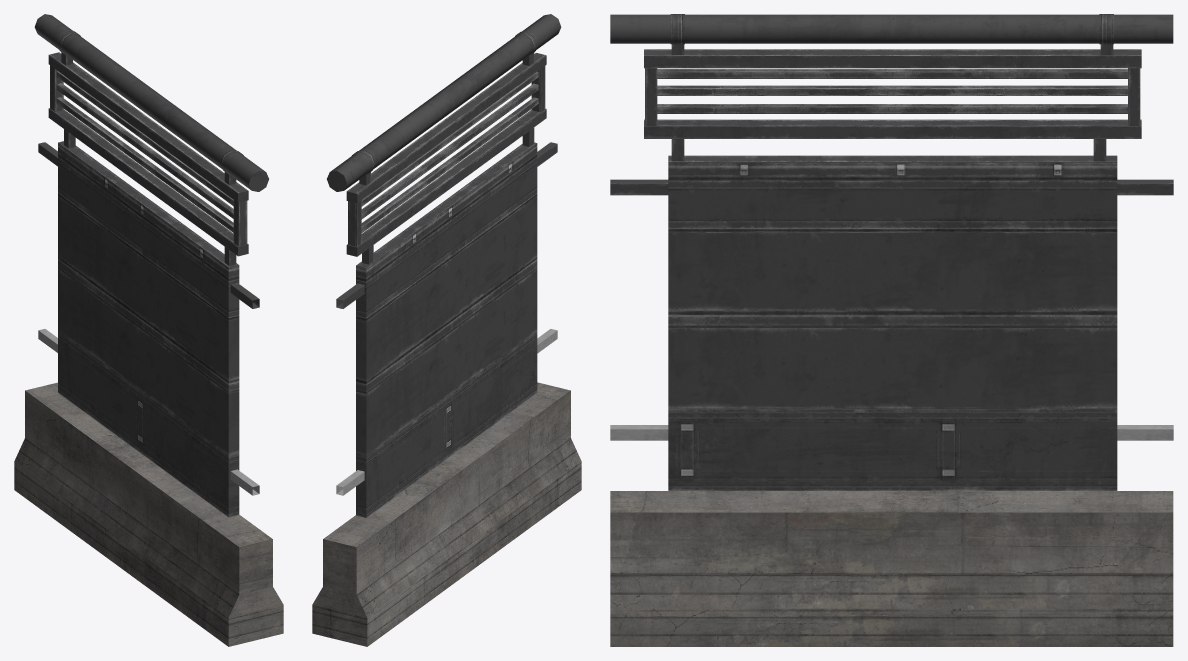
The model's file is CP_Fence_A_2m_01.fbx.
3 renders of one model, left to right at view 1: azimuth 30°, elevation 25°; view 2: azimuth 150°, elevation 25°; view 3: azimuth 270°, elevation 25°, orthographic. The views are drawn at different scales.
Parts seen in each view (by area): view 1: CP_Fence_A_2m_01; view 2: CP_Fence_A_2m_01; view 3: CP_Fence_A_2m_01.
Part boxes in pixels (x1=…): CP_Fence_A_2m_01: x1=14, y1=14, x2=283, y2=646; CP_Fence_A_2m_01: x1=312, y1=14, x2=581, y2=646; CP_Fence_A_2m_01: x1=610, y1=14, x2=1173, y2=646.
Bounding box in the file's own units: 29.59 × 242 × 200.
